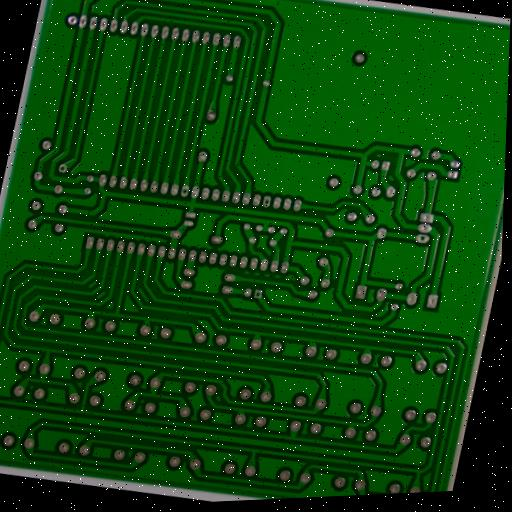missing_hole: (54, 160, 70, 175), (251, 286, 265, 302), (415, 232, 429, 246), (260, 195, 273, 209), (178, 184, 191, 198)
